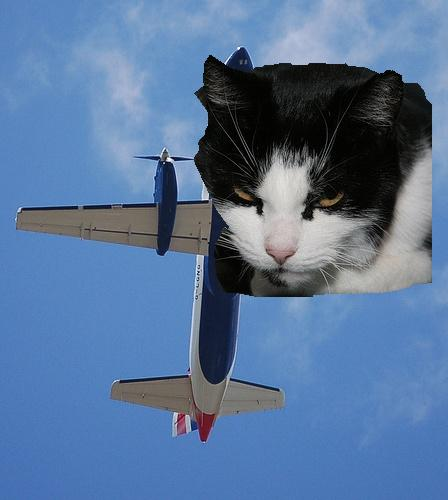tampered: (195, 56, 432, 297)
